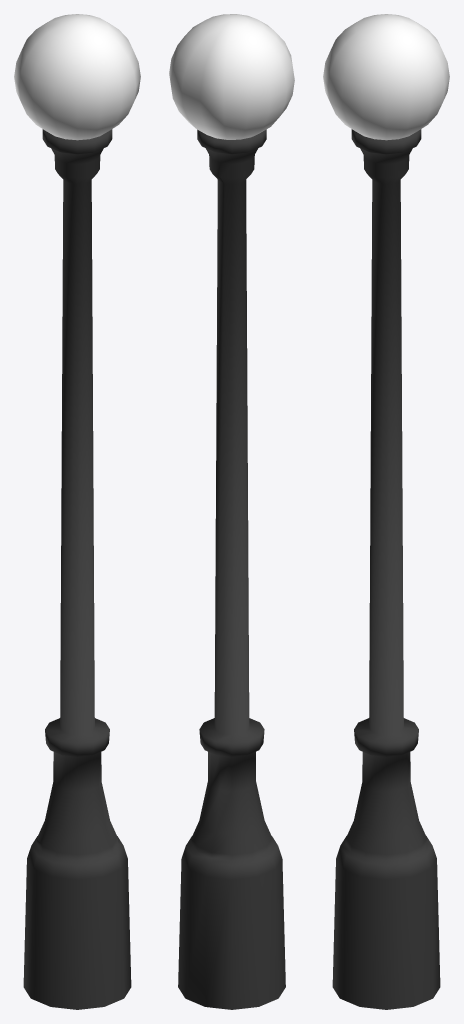
Rendered from nc_prop_lamp_globe_02.fbx.
The picture shows the model from 3 angles, left to right: view 1: azimuth 90°, elevation 25°; view 2: azimuth 150°, elevation 25°; view 3: azimuth 270°, elevation 25°; orthographic projection.
Parts seen in each view (by area): view 1: nc_prop_lamp_globe_02_LOD0; view 2: nc_prop_lamp_globe_02_LOD0; view 3: nc_prop_lamp_globe_02_LOD0.
Part boxes in pixels (bbox=[...]): nc_prop_lamp_globe_02_LOD0: bbox=[14, 14, 140, 1009]; nc_prop_lamp_globe_02_LOD0: bbox=[169, 14, 294, 1009]; nc_prop_lamp_globe_02_LOD0: bbox=[323, 14, 449, 1009].
Size of what is drawn, in the model's own units: 0.2248 by 1.89 by 0.2248.
Materials: 1 (1 with a texture image).
